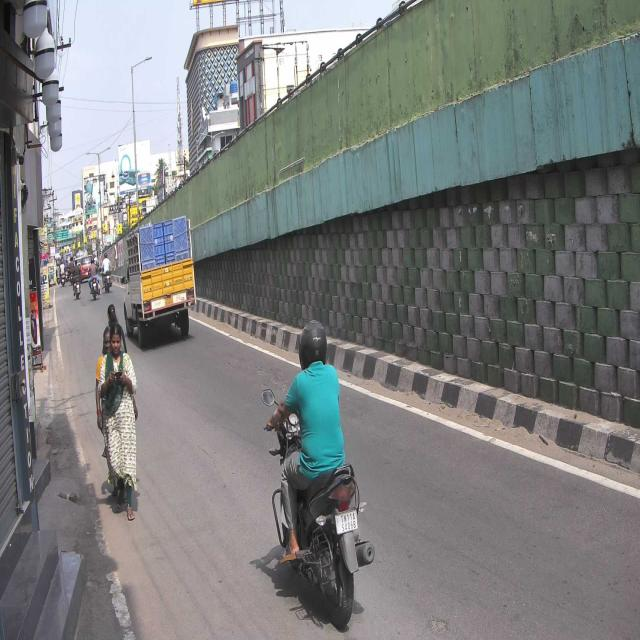single_rider: (262, 313, 374, 628)
